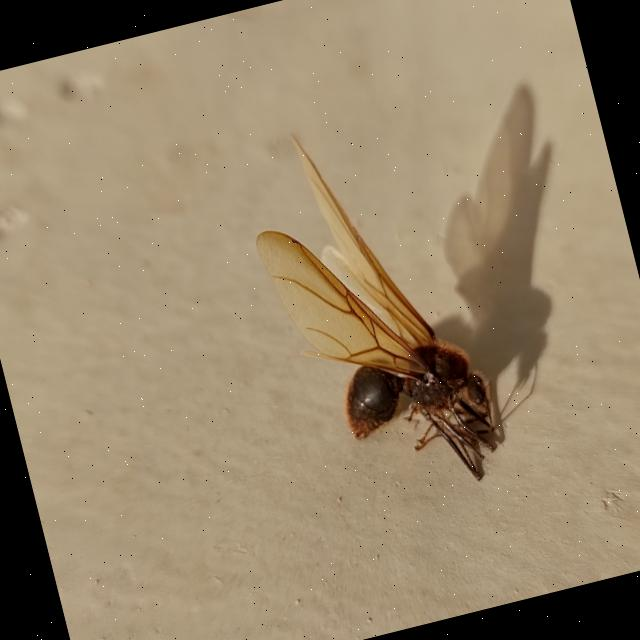Dead-Male-Alate: (232, 101, 514, 519)
